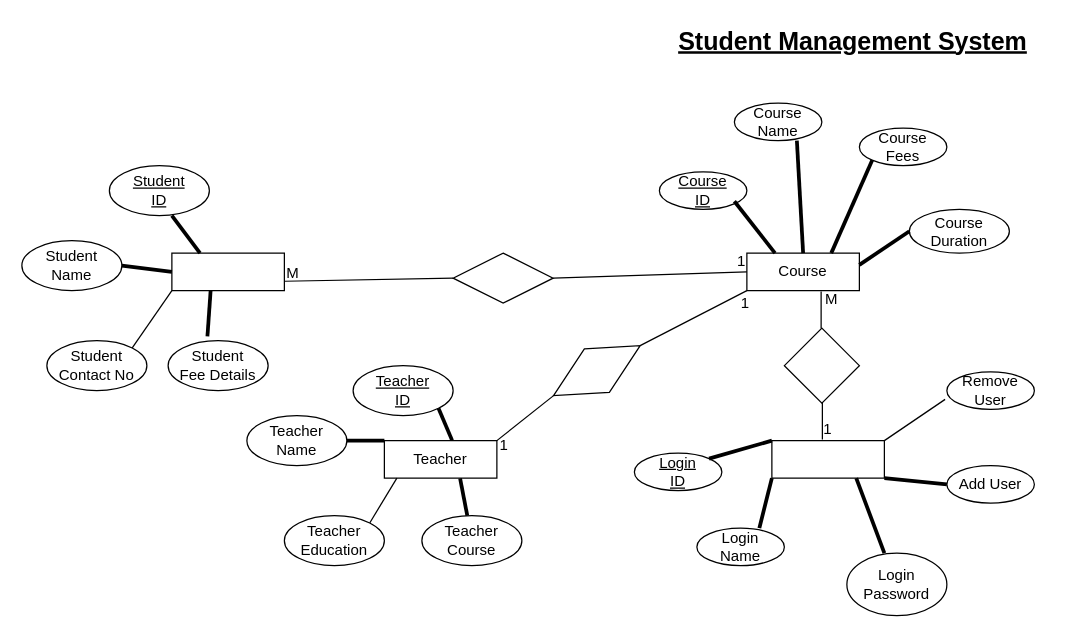
Some shapes in this 1069 by 638 pixel diagram are drawn without their labels. Each missing label, with the centre of its shape:
Admin: pixel 827 458
control: pixel 821 365
has: pixel 596 370
Student: pixel 227 271
Study: pixel 502 277
